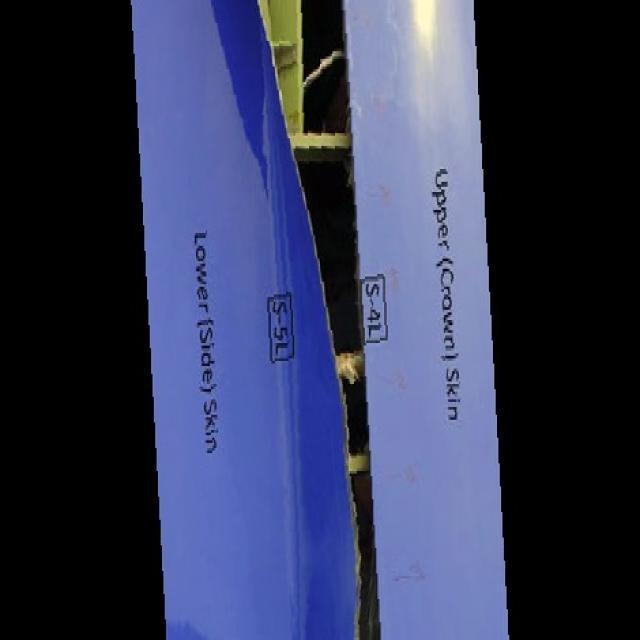crack: (243, 3, 385, 636)
